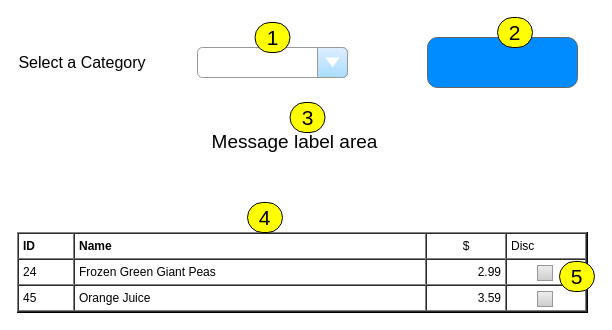
This 612x330 diagram has some shape labels left out. The centre of each missing label's shape, as x and y in pixels:
"Fetch" goes at (x=502, y=62).
"Frozen" goes at (x=272, y=62).
